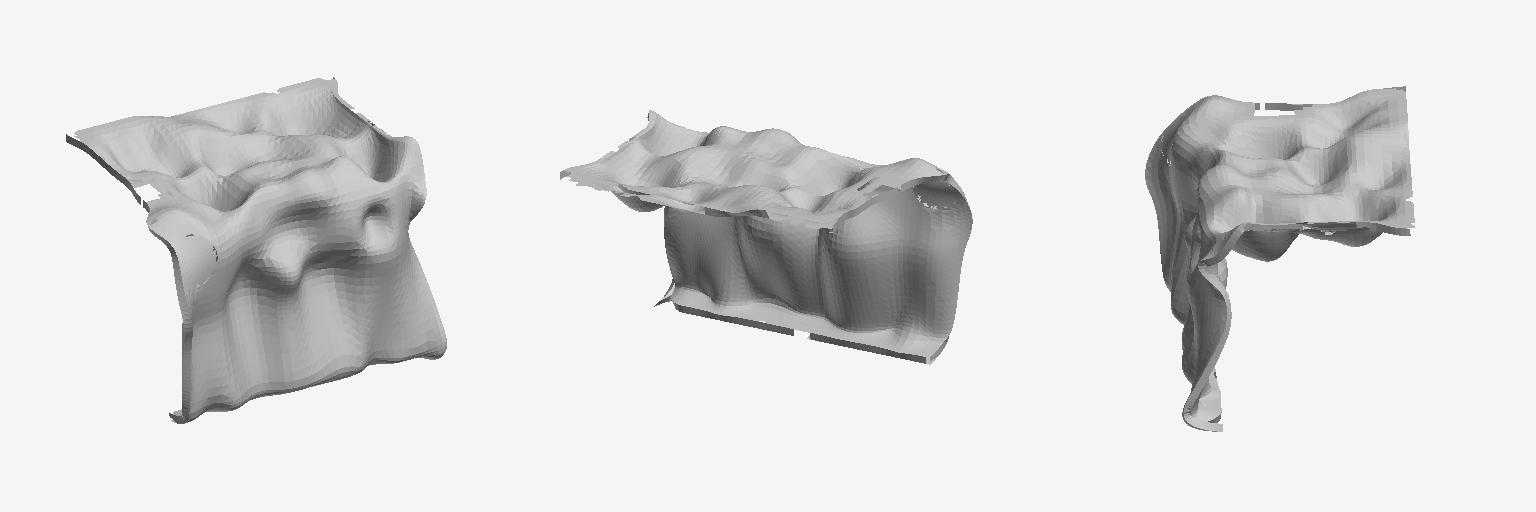
Rendered from mod2.obj.
3 views of the same model, side by side, from view 1: azimuth 30°, elevation 25°; view 2: azimuth 150°, elevation 25°; view 3: azimuth 270°, elevation 25° (orthographic).
Size of the model in its own units: 318 by 228 by 259.